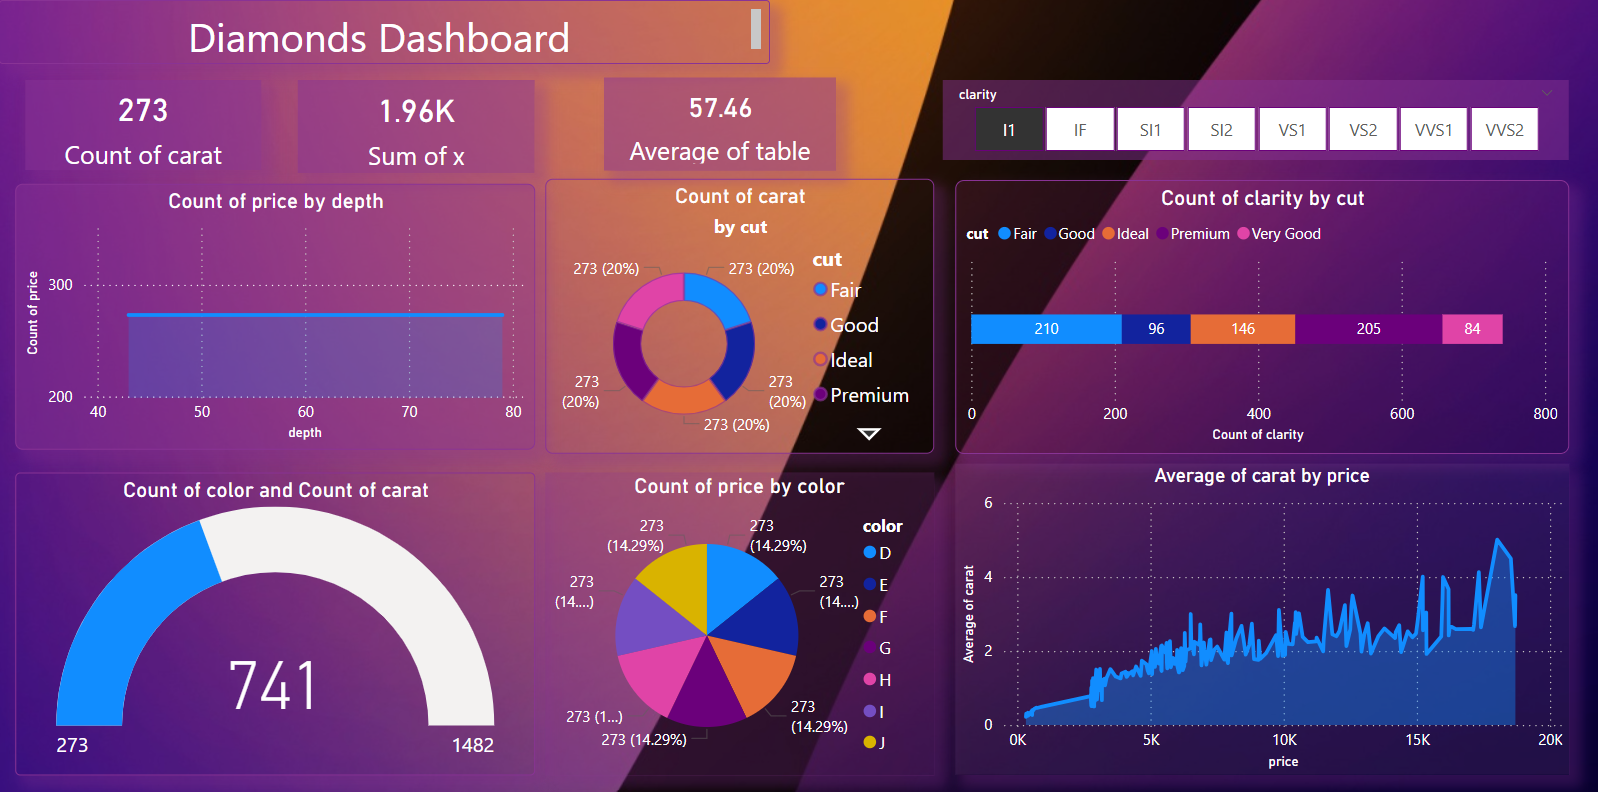

This screenshot's page, from the dashboard's own definition file:
{"tool":"powerbi","page":{"name":"Page 1","canvas":[1280,720],"ordinal":0},"visuals":[{"type":"textbox","box":[0,0,617,51],"z":0},{"type":"donutChart","fields":{"Category":["Diamond_Quality.cut"],"Y":["Count(Diamond_size.carat)"]},"box":[437,143,311,220],"z":1000},{"type":"card","fields":{"Values":["CountNonNull(Diamond_size.carat)"]},"box":[20.9,63.6,189.1,72.7],"z":2000},{"type":"card","fields":{"Values":["Sum(Diamond_size.x)"]},"box":[239,64,190,74],"z":3000},{"type":"card","fields":{"Values":["Avg(Diamond_proportion.table)"]},"box":[484,62,186,74],"z":4000},{"type":"lineChart","fields":{"Category":["Diamond_proportion.depth"],"Y":["CountNonNull(Diamond_value.price)"]},"box":[13.3,147.2,416.2,212.3],"z":5000},{"type":"barChart","fields":{"Series":["Diamond_Quality.cut"],"Y":["CountNonNull(Diamond_Quality.clarity)"]},"box":[765,144,491,219],"z":6000},{"type":"areaChart","fields":{"Category":["Diamond_value.price"],"Y":["Avg(Diamond_value.carat)"]},"box":[765,371,491,249],"z":7000},{"type":"gauge","fields":{"MinValue":["Count(Diamond_value.carat)"],"Y":["CountNonNull(Diamond_Quality.color)"]},"box":[13,378,416,242],"z":8000},{"type":"slicer","fields":{"Values":["Diamond_Quality.clarity"]},"box":[755,64,501,64],"z":9000},{"type":"pieChart","fields":{"Category":["Diamond_Quality.color"],"Y":["CountNonNull(Diamond_value.price)"]},"box":[437,378,311,242],"z":10000}]}

Visuals, with their boxes on the page's 1280x720 design canvas (x1, y1, x2, y2). These are canvas units, not pixel positions in the 1598x792 screenshot, which may show the page scaled, cropped or inside an application window:
textbox: <bbox>0, 0, 617, 51</bbox>
donutChart - Diamond_Quality.cut x Count(Diamond_size.carat): <bbox>437, 143, 748, 363</bbox>
card - CountNonNull(Diamond_size.carat): <bbox>21, 64, 210, 136</bbox>
card - Sum(Diamond_size.x): <bbox>239, 64, 429, 138</bbox>
card - Avg(Diamond_proportion.table): <bbox>484, 62, 670, 136</bbox>
lineChart - Diamond_proportion.depth x CountNonNull(Diamond_value.price): <bbox>13, 147, 430, 360</bbox>
barChart - Diamond_Quality.cut x CountNonNull(Diamond_Quality.clarity): <bbox>765, 144, 1256, 363</bbox>
areaChart - Diamond_value.price x Avg(Diamond_value.carat): <bbox>765, 371, 1256, 620</bbox>
gauge - Count(Diamond_value.carat) x CountNonNull(Diamond_Quality.color): <bbox>13, 378, 429, 620</bbox>
slicer - Diamond_Quality.clarity: <bbox>755, 64, 1256, 128</bbox>
pieChart - Diamond_Quality.color x CountNonNull(Diamond_value.price): <bbox>437, 378, 748, 620</bbox>
